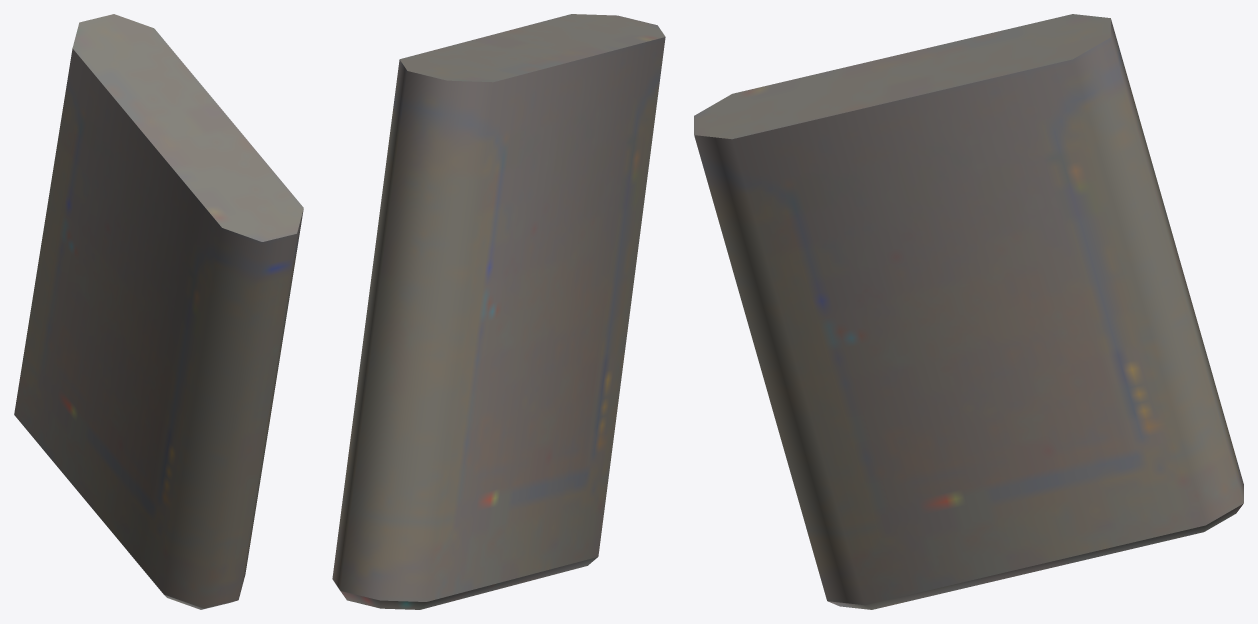
File: mag2.obj
The picture shows the model from 3 angles, left to right: view 1: azimuth 30°, elevation 25°; view 2: azimuth 150°, elevation 25°; view 3: azimuth 270°, elevation 25°; orthographic projection. The views are drawn at different scales.
Parts seen in each view (by area): view 1: mag2; view 2: mag2; view 3: mag2.
Part boxes in pixels (left/top/right/bottom): mag2: left=14, top=14, right=303, bottom=609; mag2: left=332, top=14, right=665, bottom=609; mag2: left=694, top=14, right=1243, bottom=609.
Bounding box in the file's own units: 2.98 × 17.47 × 15.26.
